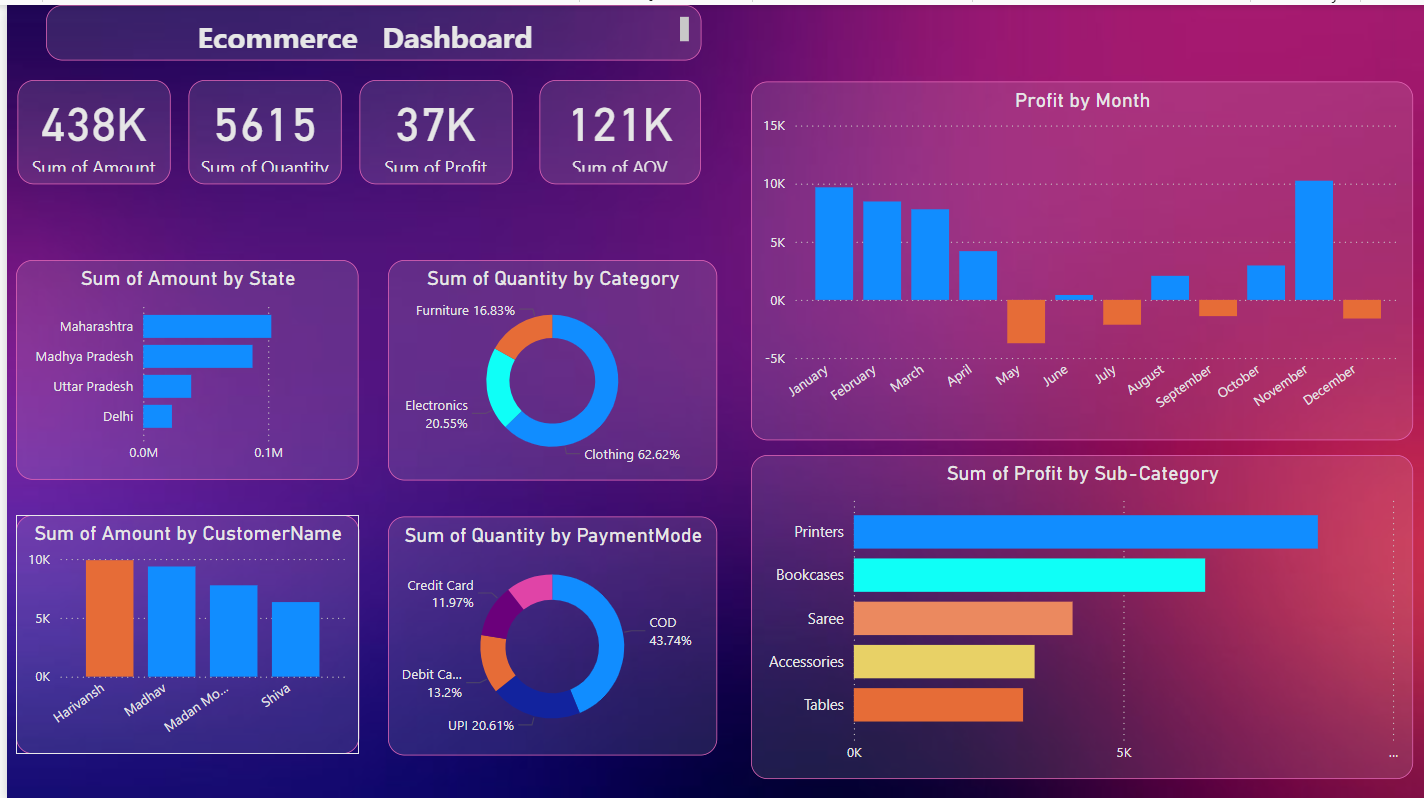

The page's visual inventory and layout, read from the dashboard file:
{"tool":"powerbi","page":{"name":"Page 1","canvas":[1280,720],"ordinal":0},"visuals":[{"type":"textbox","box":[34.8,0,590.5,50],"z":0},{"type":"columnChart","title":"Profit by Month","fields":{"Category":["Orders.Order Date.Variation.Date Hierarchy.Month"],"Y":["Details.Profit"]},"box":[669.9,68.9,596.9,323.5],"z":1000},{"type":"barChart","fields":{"Category":["Details.Sub-Category"],"Y":["Details.Profit"]},"box":[669.9,404.9,596.9,292.2],"z":2000},{"type":"donutChart","fields":{"Category":["Details.Category"],"Y":["Details.Quantity"]},"box":[343.7,230.2,296.8,198.4],"z":3000},{"type":"donutChart","fields":{"Y":["Details.Quantity"],"Category":["Details.PaymentMode"]},"box":[343.7,460.3,296.8,215],"z":4000},{"type":"card","fields":{"Values":["Details.Amount"]},"box":[9.1,68.1,137.8,93.9],"z":5000},{"type":"card","fields":{"Values":["Details.Quantity"]},"box":[163.5,68.1,137.8,93.9],"z":6000},{"type":"card","fields":{"Values":["Details.Profit"]},"box":[318,68.1,137.8,93.9],"z":7000},{"type":"card","fields":{"Values":["Details.AOV"]},"box":[480,68.1,145.4,93.9],"z":8000},{"type":"barChart","fields":{"Category":["Orders.State"],"Y":["Details.Amount"]},"box":[8.3,229.6,308.9,198.3],"z":9000},{"type":"columnChart","fields":{"Category":["Orders.CustomerName"],"Y":["Details.Amount"]},"box":[8,460,309,215],"z":10000}]}

Visuals, with their boxes in screenshot pixels (x1, y1, x2, y2), scaled from the page's 1280x720 canvas onto the 1424x798 screenshot:
textbox: {"x1": 39, "y1": 0, "x2": 696, "y2": 55}
"Profit by Month" columnChart: {"x1": 745, "y1": 76, "x2": 1409, "y2": 435}
barChart - Details.Sub-Category x Details.Profit: {"x1": 745, "y1": 449, "x2": 1409, "y2": 773}
donutChart - Details.Category x Details.Quantity: {"x1": 382, "y1": 255, "x2": 713, "y2": 475}
donutChart - Details.Quantity x Details.PaymentMode: {"x1": 382, "y1": 510, "x2": 713, "y2": 748}
card - Details.Amount: {"x1": 10, "y1": 75, "x2": 163, "y2": 180}
card - Details.Quantity: {"x1": 182, "y1": 75, "x2": 335, "y2": 180}
card - Details.Profit: {"x1": 354, "y1": 75, "x2": 507, "y2": 180}
card - Details.AOV: {"x1": 534, "y1": 75, "x2": 696, "y2": 180}
barChart - Orders.State x Details.Amount: {"x1": 9, "y1": 254, "x2": 353, "y2": 474}
columnChart - Orders.CustomerName x Details.Amount: {"x1": 9, "y1": 510, "x2": 353, "y2": 748}
